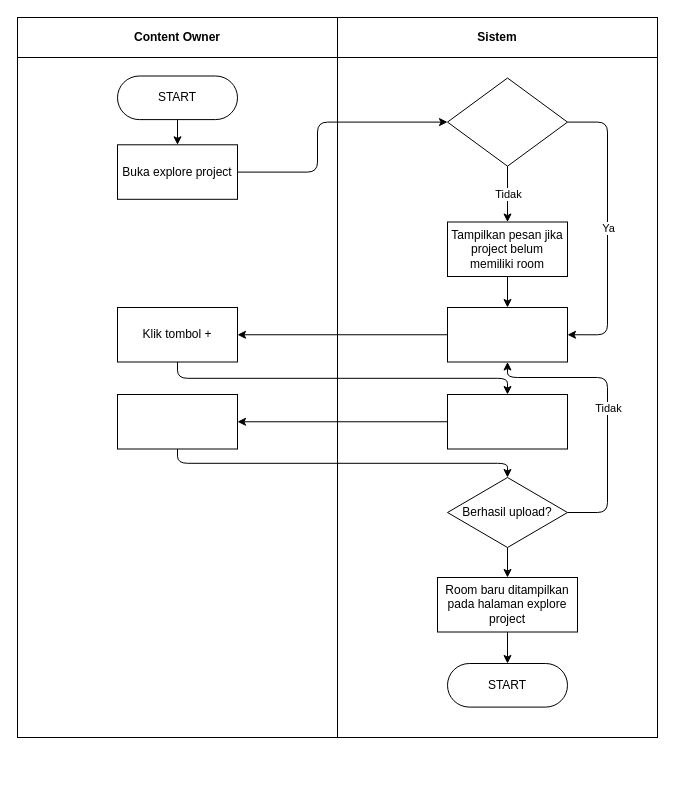
This 675x795 diagram has some shape labels left out. The centre of each missing label's shape, as x and y in pixels:
Menampilkan halaman explore project: pixel 507 334
Menampilkan popup buat ruangan baru: pixel 507 421
Sudah memiliki room?: pixel 507 121
Upload gambar 360 dan nama room: pixel 177 421
